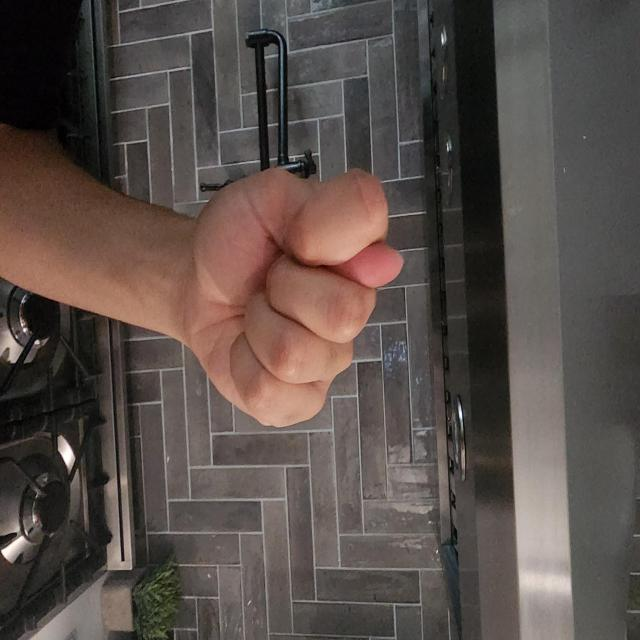T: (270, 309, 488, 605)
